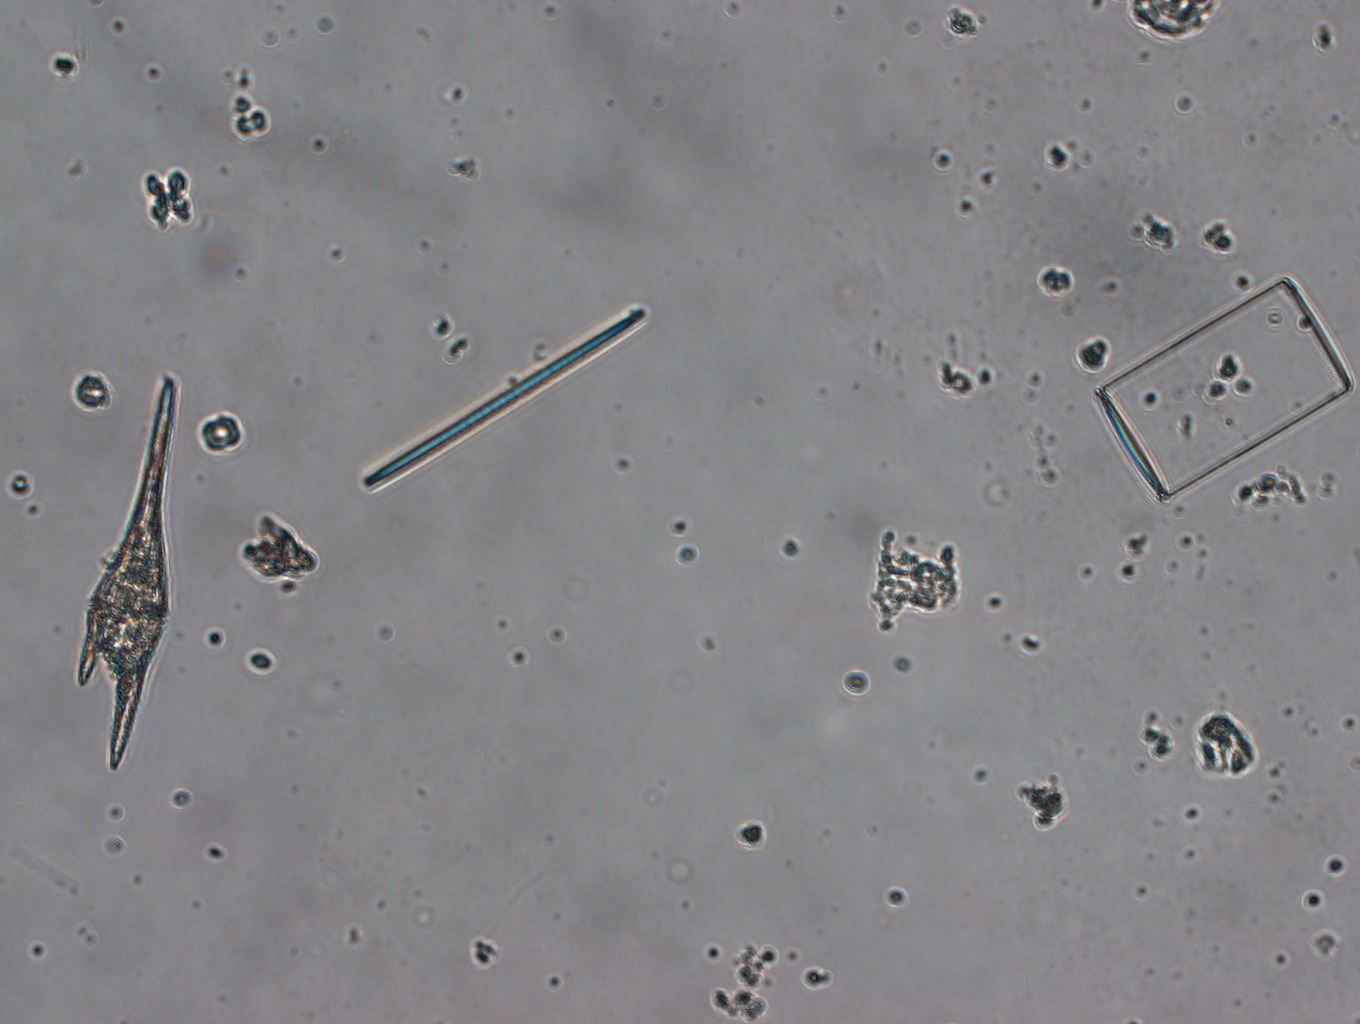ceratium furca: (72, 374, 188, 776)
guinardia flaccida: (1080, 278, 1360, 508)
